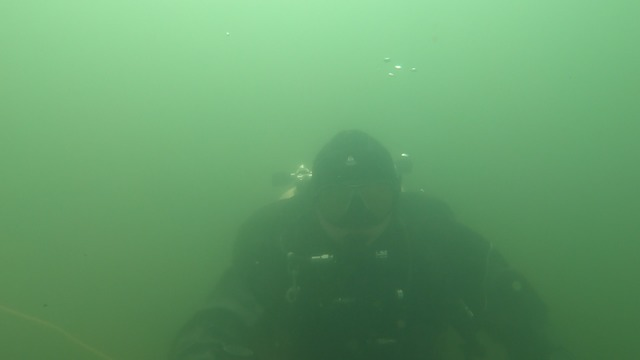Diver: (152, 119, 576, 358)
Head: (285, 123, 417, 265)
